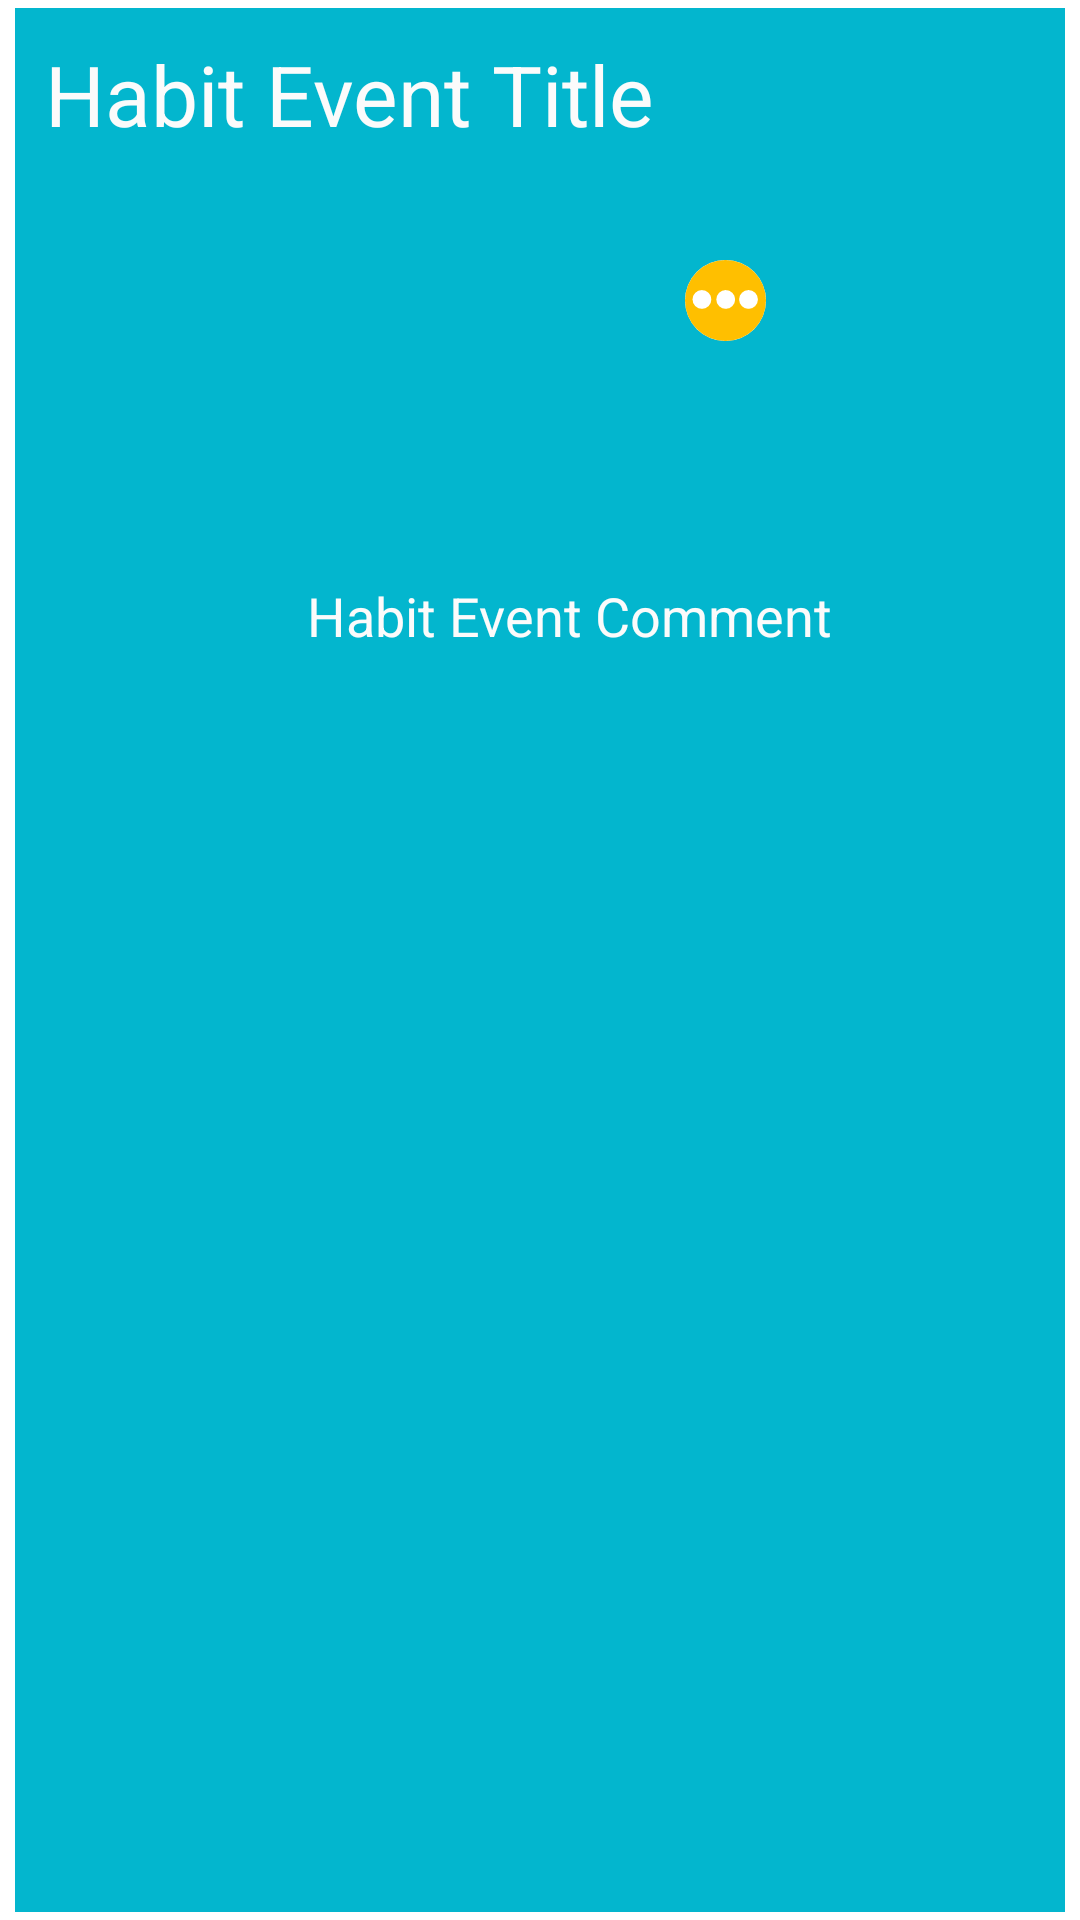

Named icons in this screenshot (1080 x 1920) and their bounding boxes, (x1, y1, x2, y2):
in progress: (685, 260, 766, 341)
